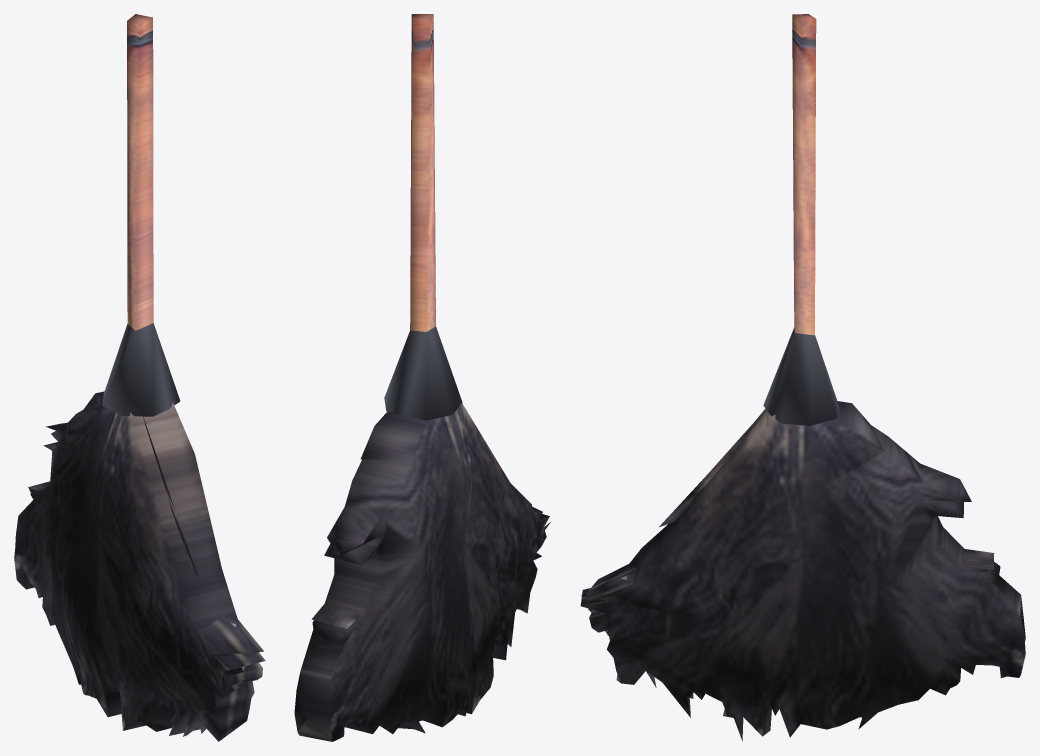
The model's file is FeatherDuster.fbx.
3 views of the same model, side by side, from view 1: azimuth 30°, elevation 25°; view 2: azimuth 150°, elevation 25°; view 3: azimuth 270°, elevation 25° (orthographic). The views are drawn at different scales.
Visible parts, largest first — view 1: Feather Duster; view 2: Feather Duster; view 3: Feather Duster.
Boxes of the visible parts, x1,y1,x2,y2 form: Feather Duster: [14, 14, 265, 741]; Feather Duster: [294, 14, 550, 741]; Feather Duster: [580, 14, 1025, 741].
Bounding box in the file's own units: 0.0534 × 0.3513 × 0.1999.
